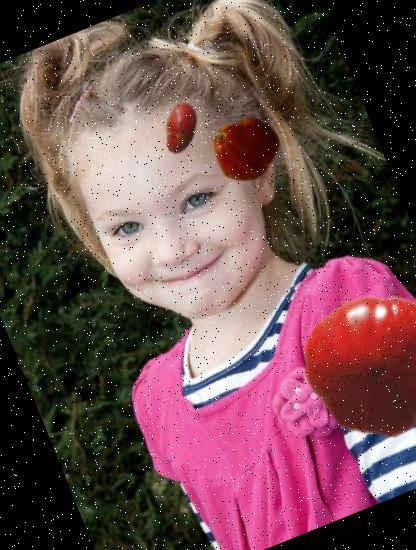Potato: (146, 92, 216, 162)
Tomato: (276, 267, 416, 458), (200, 104, 290, 192)
